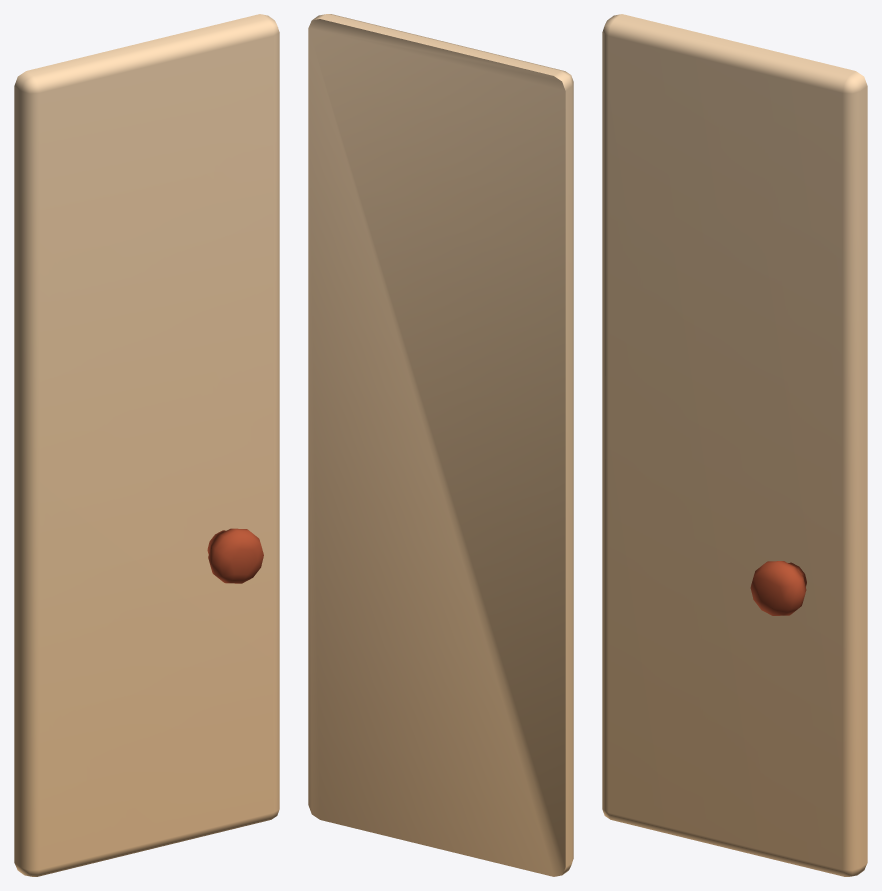
The model's file is Closet_09_Door_01.fbx.
3 renders of one model, left to right at view 1: azimuth 30°, elevation 25°; view 2: azimuth 150°, elevation 25°; view 3: azimuth 330°, elevation 25°, orthographic.
Parts seen in each view (by area): view 1: Closet_09_Door_01; view 2: Closet_09_Door_01; view 3: Closet_09_Door_01.
Boxes of the visible parts, left/top/right/bottom form: Closet_09_Door_01: left=14, top=14, right=279, bottom=876; Closet_09_Door_01: left=308, top=14, right=573, bottom=876; Closet_09_Door_01: left=602, top=14, right=867, bottom=876.
Bounding box in the file's own units: 33 × 7.98 × 98.17.
